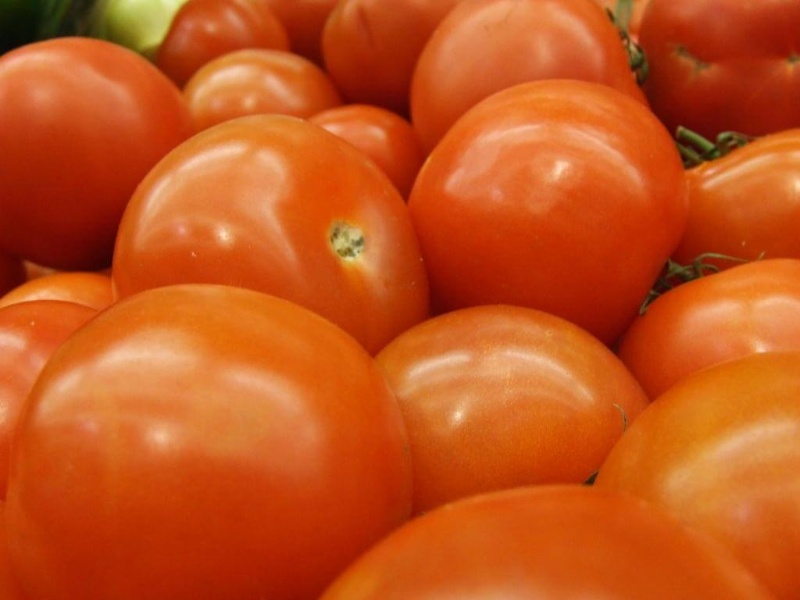Tomate: (15, 288, 412, 600), (113, 117, 442, 356), (416, 81, 686, 341), (377, 304, 654, 507), (1, 37, 196, 274), (412, 1, 652, 153), (658, 130, 800, 292), (640, 1, 800, 139), (320, 2, 466, 114), (184, 48, 345, 132), (310, 101, 427, 204), (157, 1, 292, 81)
